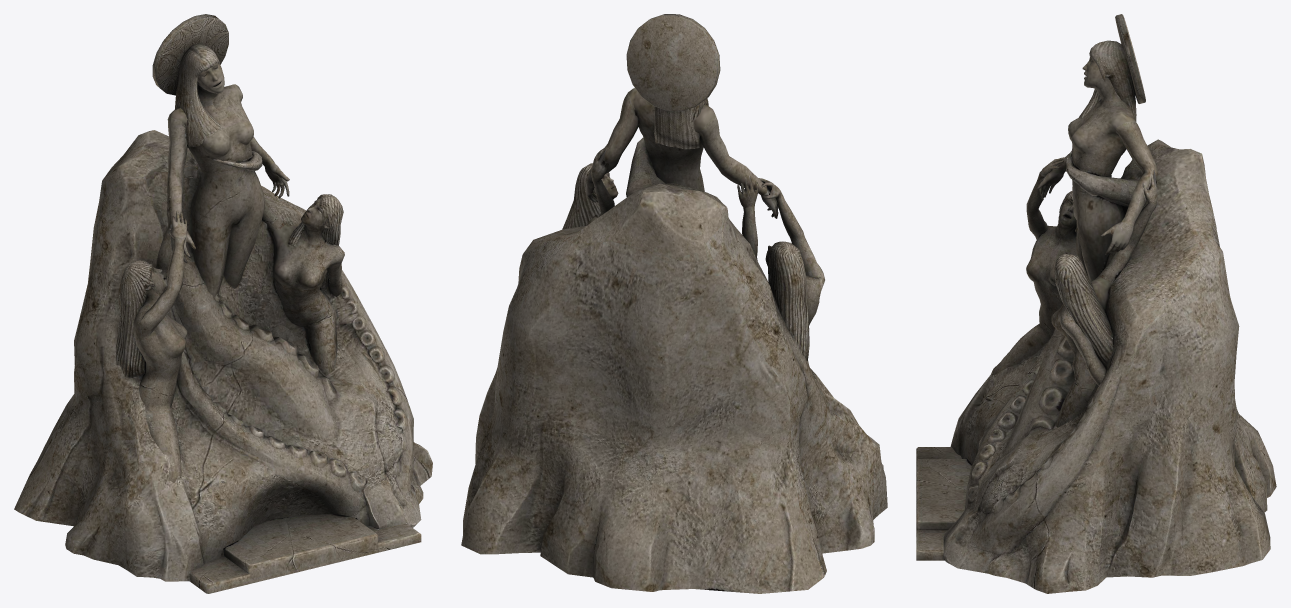
Rendered from statue.glb.
3 views of the same model, side by side, from view 1: azimuth 30°, elevation 25°; view 2: azimuth 150°, elevation 25°; view 3: azimuth 270°, elevation 25° (orthographic). The views are drawn at different scales.
Visible parts, largest first — view 1: polySurface14, LydiaPosed3, GirlLeftPosed1, GirlRightPosed1, polySurface9; view 2: polySurface14, LydiaPosed3, polySurface9, GirlLeftPosed1, GirlRightPosed1; view 3: polySurface14, LydiaPosed3, polySurface9, GirlLeftPosed1, GirlRightPosed1.
Boxes of the visible parts, <box> form: polySurface14: <box>14,14,432,593</box>; LydiaPosed3: <box>167,63,289,297</box>; GirlLeftPosed1: <box>133,194,187,482</box>; GirlRightPosed1: <box>262,198,344,375</box>; polySurface9: <box>116,44,343,377</box>; polySurface14: <box>461,14,887,593</box>; LydiaPosed3: <box>585,88,778,218</box>; polySurface9: <box>562,98,809,360</box>; GirlLeftPosed1: <box>737,175,824,367</box>; GirlRightPosed1: <box>587,150,618,225</box>; polySurface14: <box>916,14,1276,593</box>; LydiaPosed3: <box>1036,57,1158,281</box>; polySurface9: <box>1054,40,1136,366</box>; GirlLeftPosed1: <box>991,157,1076,374</box>; GirlRightPosed1: <box>1051,170,1157,427</box>.
Size of the model in its own units: 11.65 by 15.05 by 10.18.
Materials: 1 (1 with a texture image).
